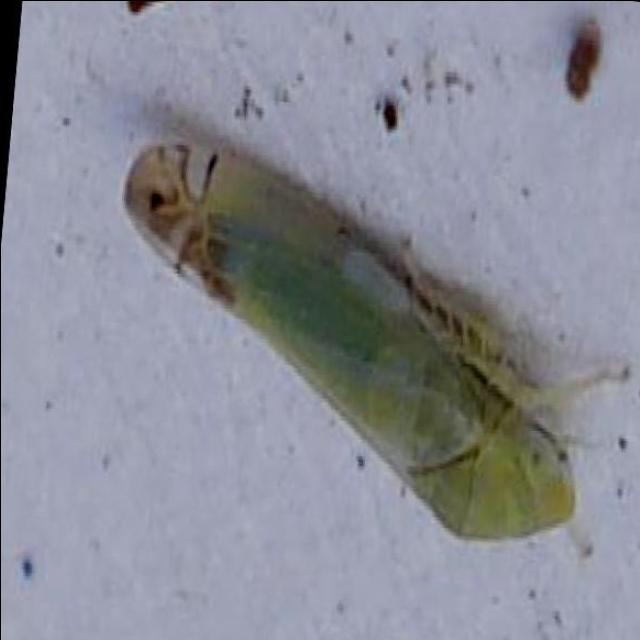green leaf hopper: (123, 139, 628, 541)
